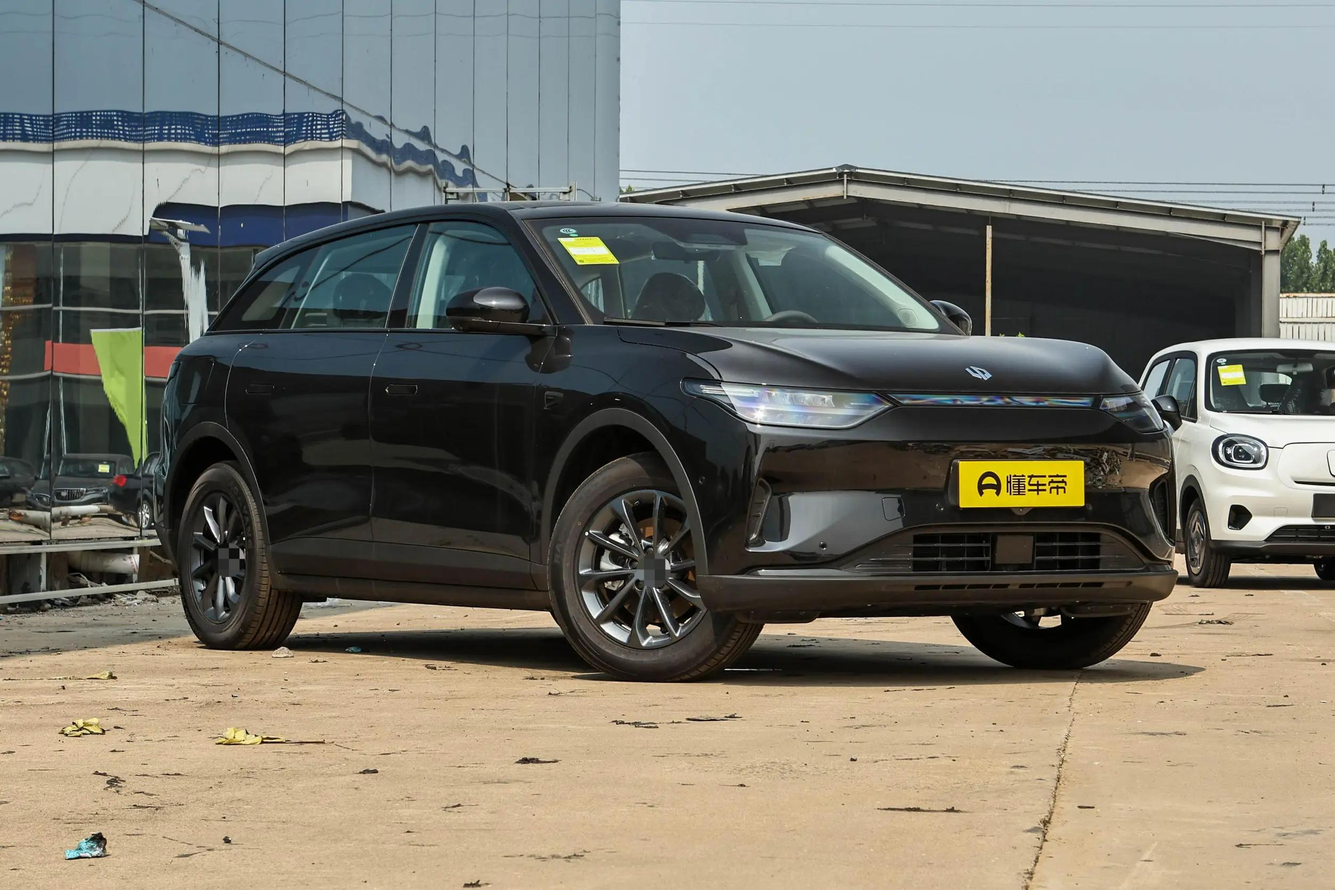LEAPMOTOR: (965, 364, 993, 381)
